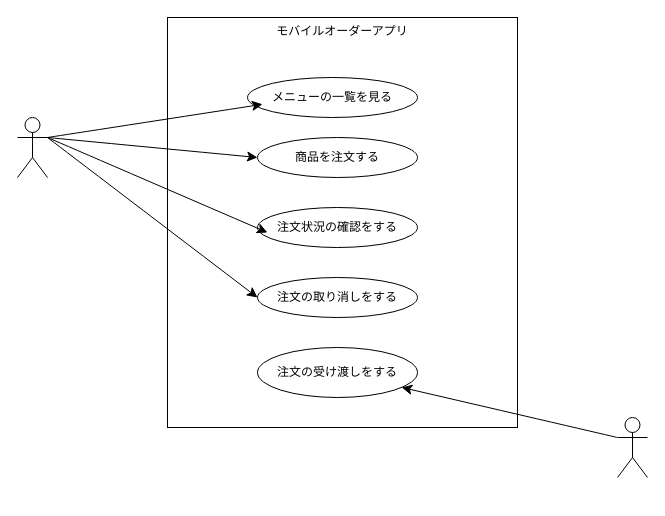
Some shapes in this 665 by 516 pixel diagram are drawn without their labels. The shapes that lost their labels are listed below. From the top down, each one's centre as x and y in pixels, then its label:
(32,147): お客
(632,447): 店員
